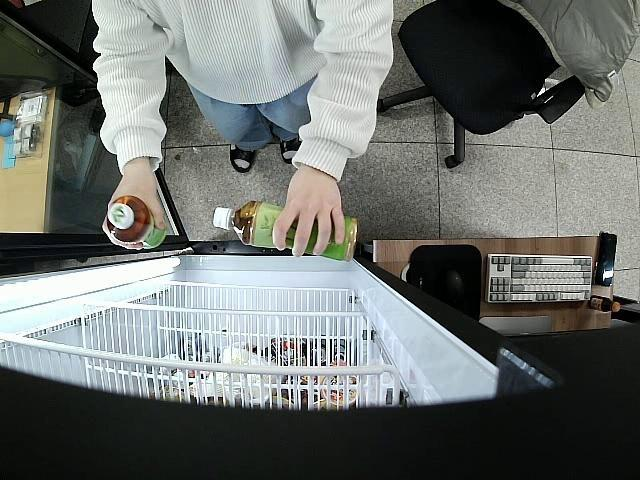19_17cha: (212, 198, 357, 264), (108, 197, 166, 250)
